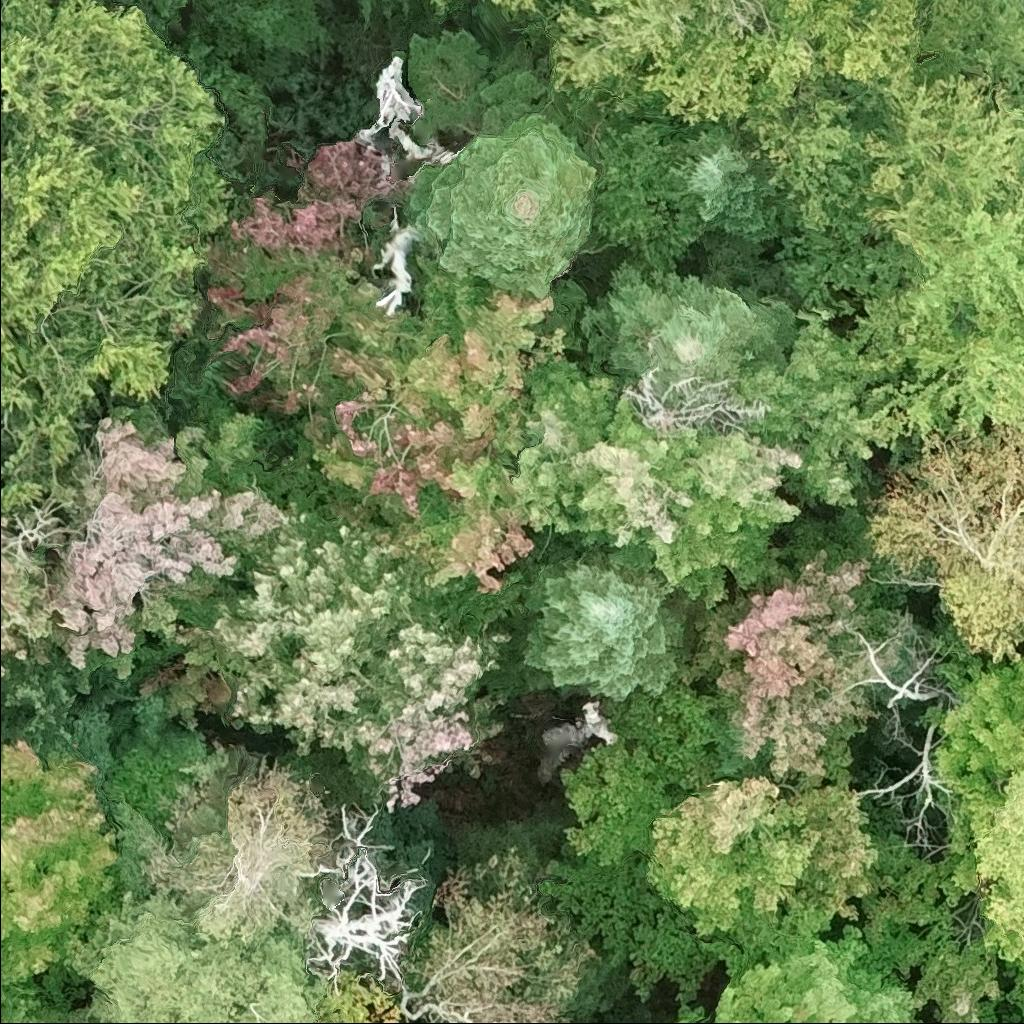crown: (0, 0, 236, 482), (261, 242, 577, 592), (175, 502, 528, 813), (508, 354, 805, 609), (35, 402, 302, 667), (843, 67, 1023, 433), (490, 0, 922, 135), (682, 542, 914, 792), (199, 138, 412, 394), (640, 764, 898, 975), (404, 28, 601, 299), (135, 746, 342, 949), (863, 416, 1023, 665), (739, 302, 917, 508), (70, 888, 318, 1023), (0, 733, 125, 981), (579, 257, 800, 389), (521, 534, 691, 703), (299, 796, 431, 994), (666, 921, 916, 1023), (919, 652, 1023, 894), (669, 125, 783, 260), (965, 728, 1023, 962), (186, 0, 340, 85), (348, 53, 464, 164), (0, 471, 58, 679), (918, 0, 1023, 84), (366, 206, 429, 316), (422, 0, 462, 19), (0, 976, 13, 1023), (1018, 654, 1023, 702), (1017, 1021, 1023, 1023)
